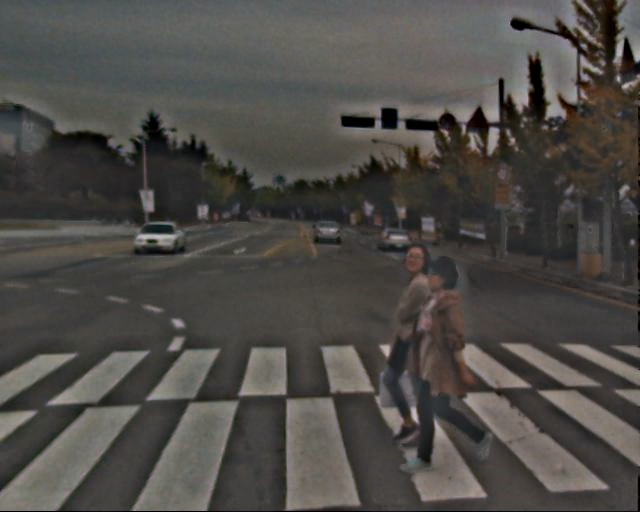person: (401, 257, 481, 468), (379, 239, 450, 445)
